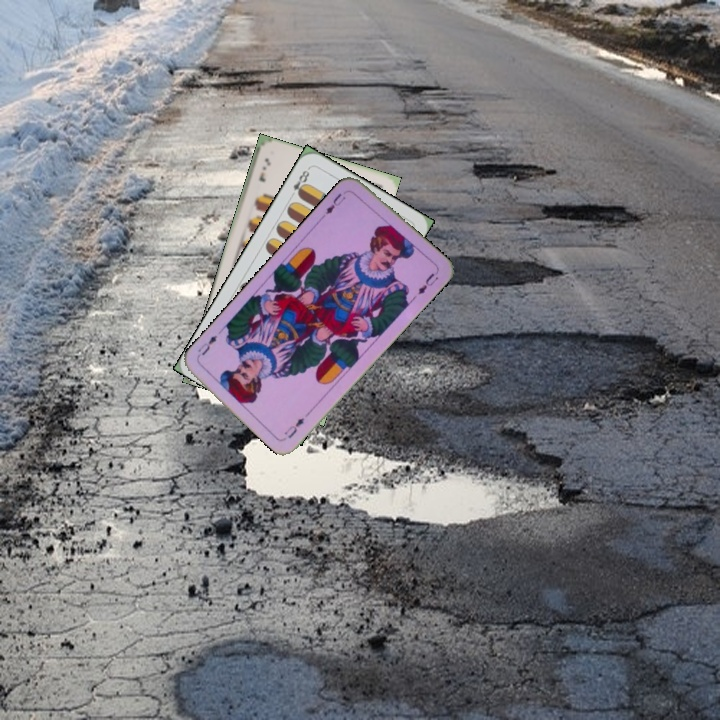E7: (255, 154, 273, 185)
E8: (286, 164, 312, 200)
EU: (280, 408, 313, 441), (322, 189, 348, 217)
